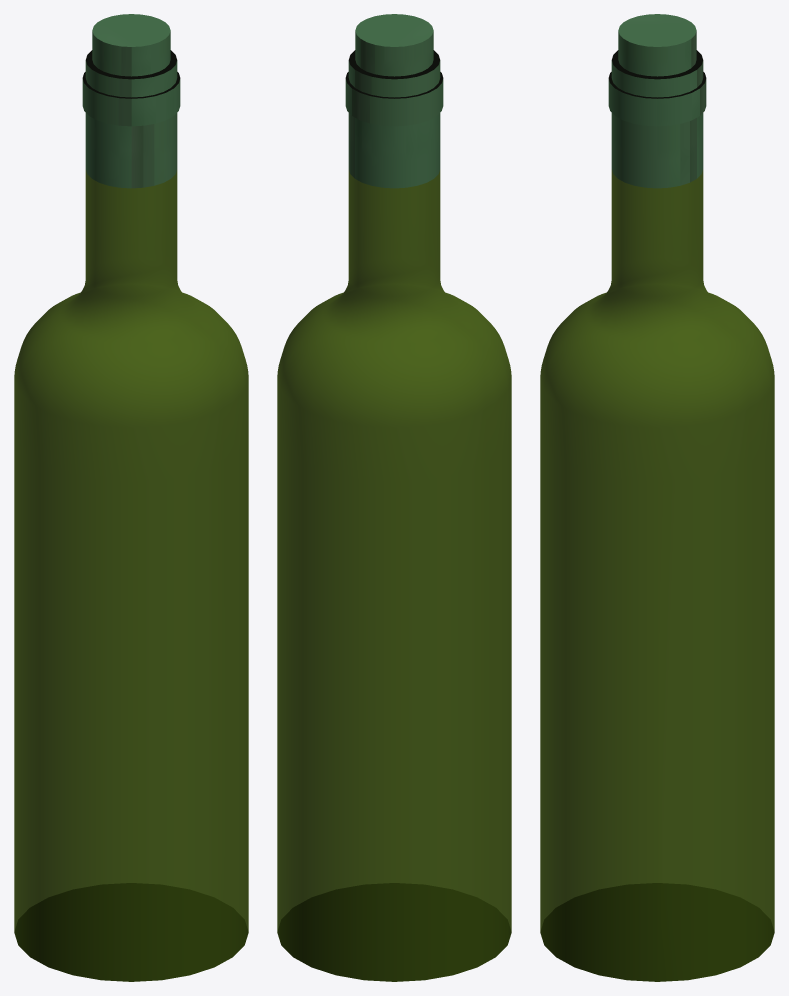
3 renders of one model, left to right at view 1: azimuth 30°, elevation 25°; view 2: azimuth 150°, elevation 25°; view 3: azimuth 270°, elevation 25°, orthographic.
Parts seen in each view (by area): view 1: sketchup-download200701241001233 (×7); view 2: sketchup-download200701241001233 (×7); view 3: sketchup-download200701241001233 (×7).
Part boxes in pixels (box(x1,y1,x2,y2)): sketchup-download200701241001233 (×7): box(14, 14, 248, 981); sketchup-download200701241001233 (×7): box(277, 14, 511, 981); sketchup-download200701241001233 (×7): box(540, 14, 774, 981).
Bounding box in the file's own units: 3.61 × 3.61 × 15.3.
Materials: 5 (3 with a texture image).
